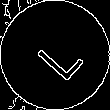L_NW: (26, 27, 84, 83)
